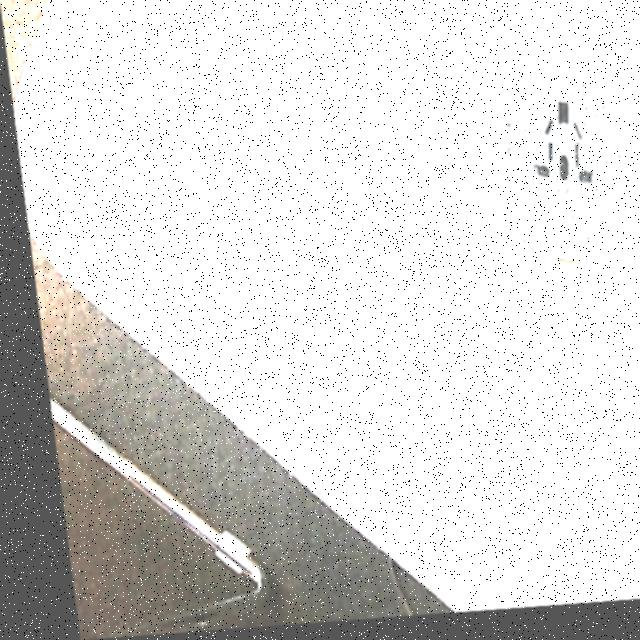adapter: (489, 83, 626, 276)
